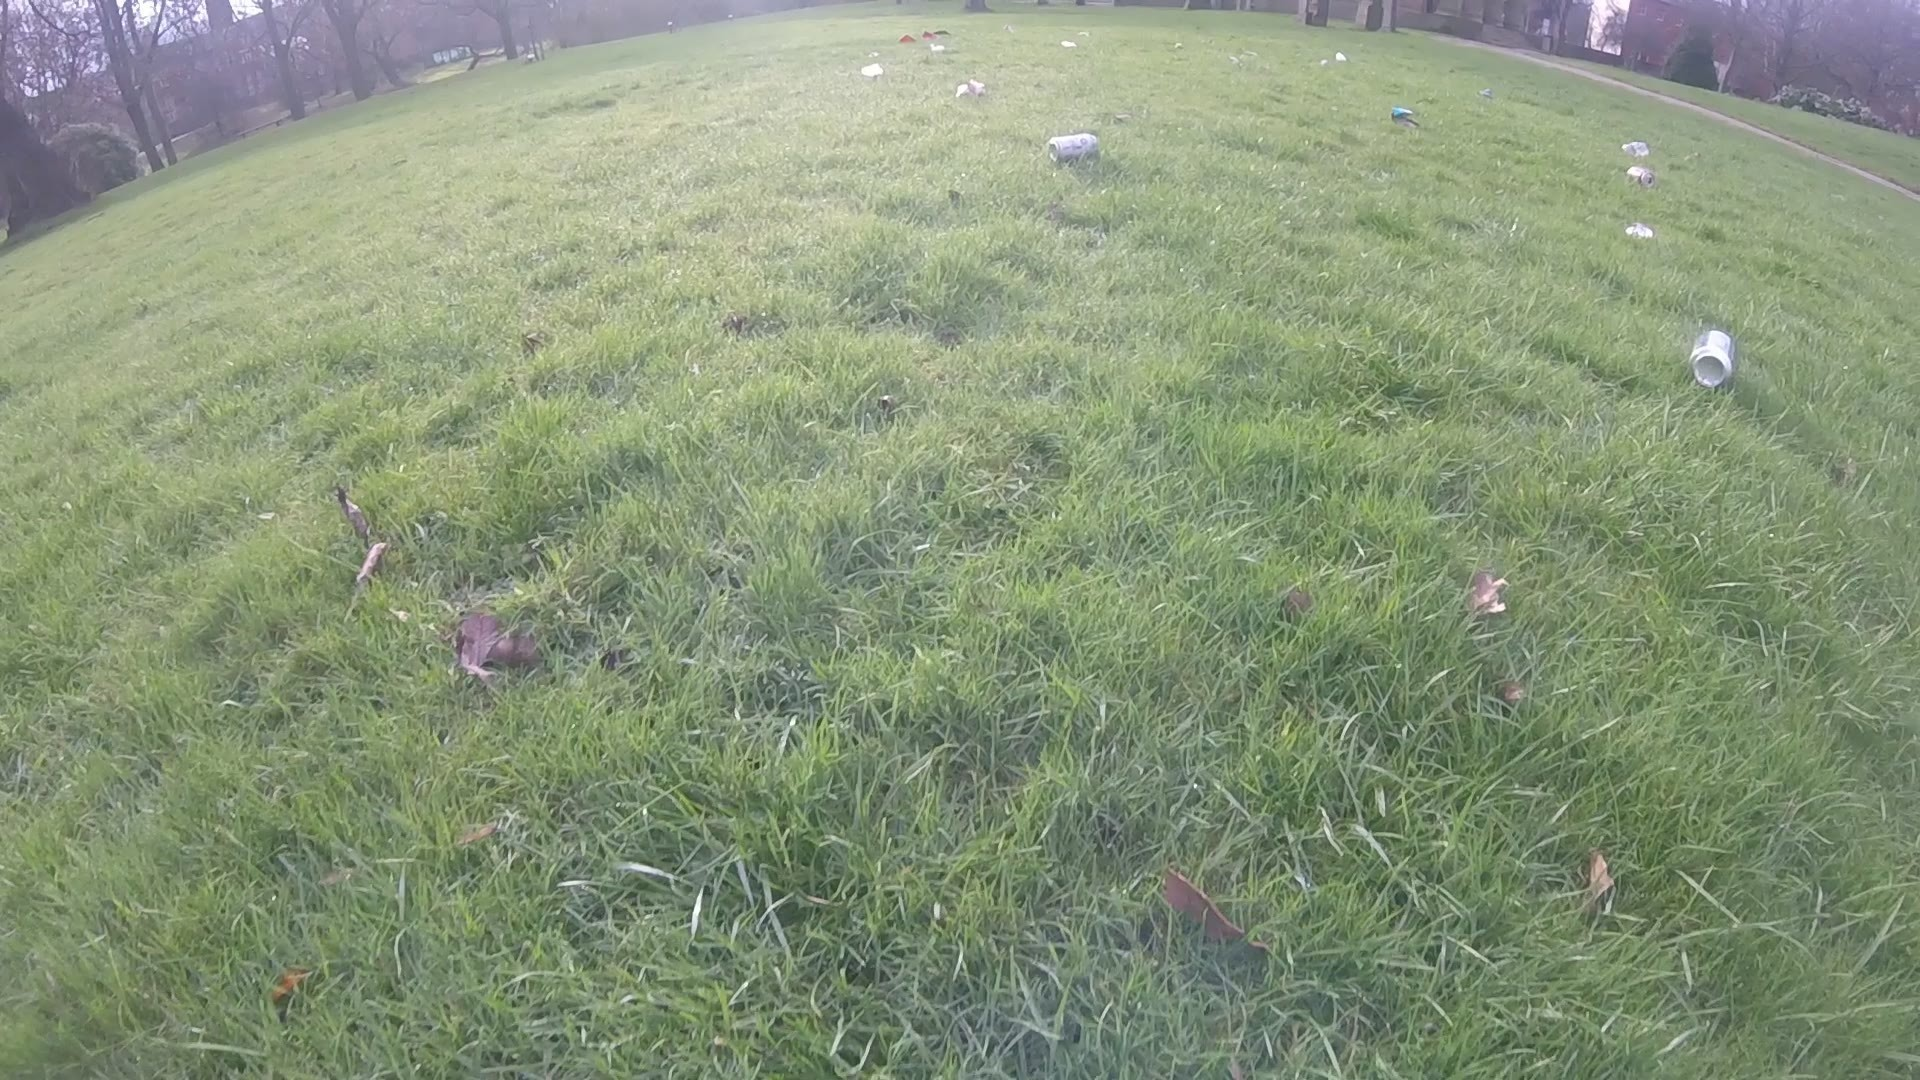litter: (1687, 328, 1734, 386), (1044, 135, 1102, 165), (1629, 164, 1658, 189), (953, 79, 982, 102), (1625, 222, 1655, 243), (1393, 108, 1418, 127), (1617, 142, 1648, 156), (861, 62, 884, 78), (919, 28, 940, 40), (1476, 88, 1495, 100), (926, 44, 945, 55), (1332, 50, 1349, 63), (928, 28, 952, 37), (893, 36, 920, 44), (1056, 40, 1079, 47), (1069, 30, 1091, 37), (1319, 55, 1327, 69), (1174, 42, 1183, 51)
